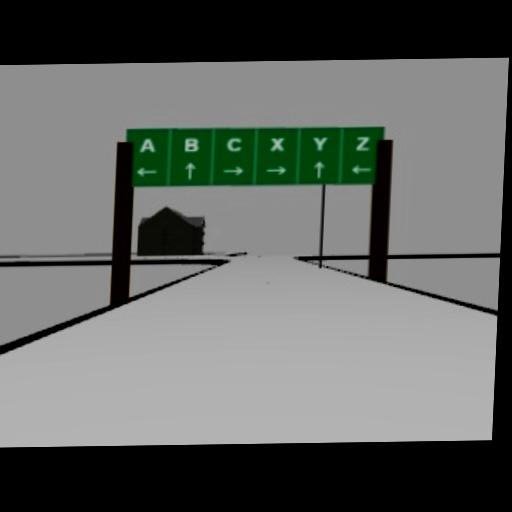A: (139, 136, 156, 151)
B: (183, 135, 198, 151)
C: (226, 135, 241, 150)
Left: (351, 162, 372, 173), (135, 166, 158, 176)
Right: (222, 164, 245, 175), (265, 164, 286, 174)
Straight: (183, 160, 196, 178), (312, 160, 325, 177)
X: (269, 135, 284, 150)
Y: (312, 135, 327, 150)
Z: (355, 134, 370, 149)
